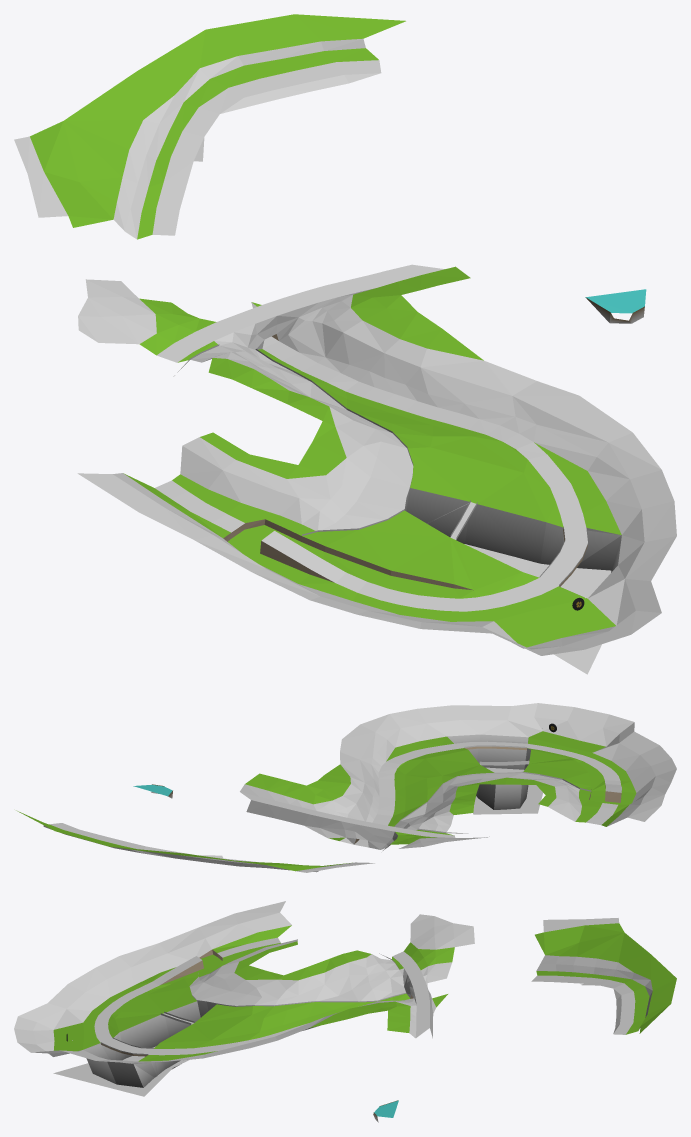
The model's file is Background.FBX.
The picture shows the model from 3 angles, top to bottom: view 1: azimuth 30°, elevation 25°; view 2: azimuth 150°, elevation 25°; view 3: azimuth 270°, elevation 25°; orthographic projection. The views are drawn at different scales.
Parts seen in each view (by area): view 1: Master Objects; view 2: Master Objects; view 3: Master Objects.
Part boxes in pixels (box(x1,y1,x2,y2)): Master Objects: box(14, 14, 676, 674); Master Objects: box(16, 703, 676, 872); Master Objects: box(14, 901, 676, 1122).
Size of the model in its own units: 4883 by 7131 by 1613.
